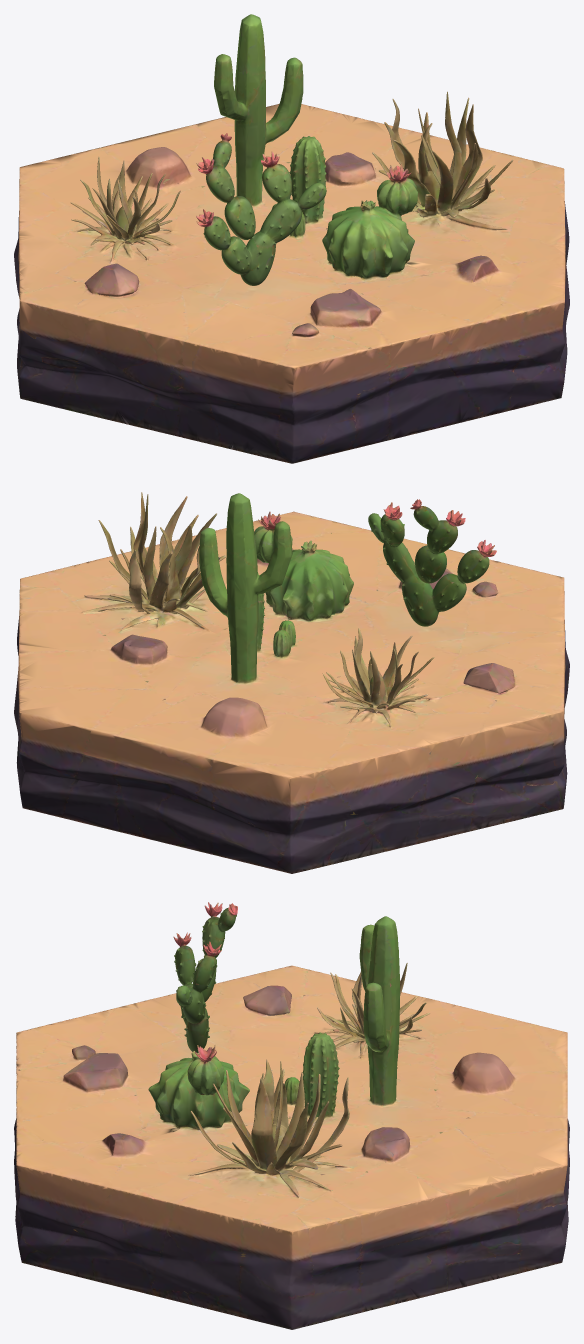
File: sandtile_lv2.glb
3 views of the same model, one above another, from view 1: azimuth 30°, elevation 25°; view 2: azimuth 150°, elevation 25°; view 3: azimuth 270°, elevation 25° (orthographic).
Bounding box in the file's own units: 1.9 × 0.9392 × 1.67.
1 material, 1 textured.
